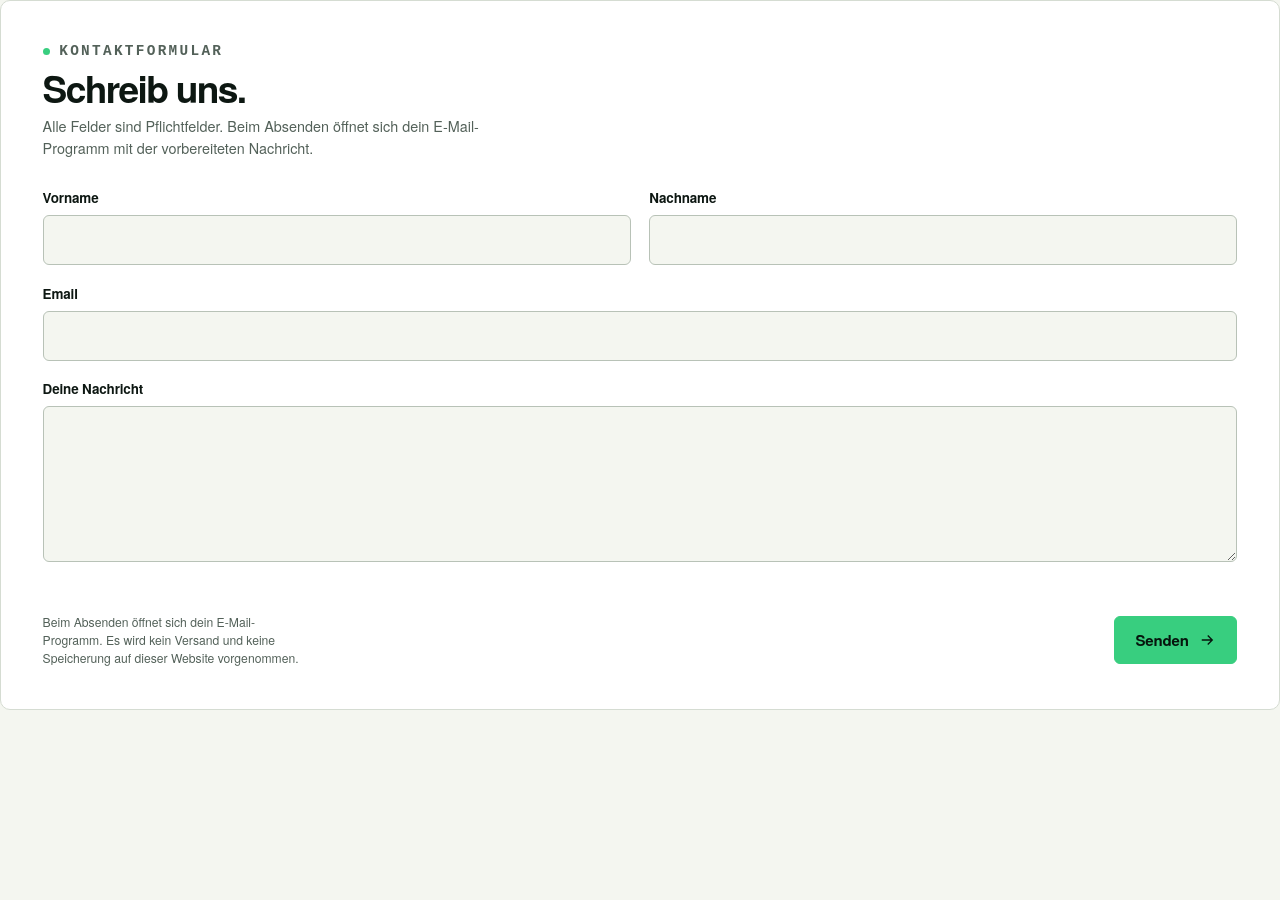
Test: ContactForm › shows errors only after the user has typed or tried to submit
Step 1. Type "Max" into the field labelled "Vorname" → x=337, y=240, box [43,215,631,265]
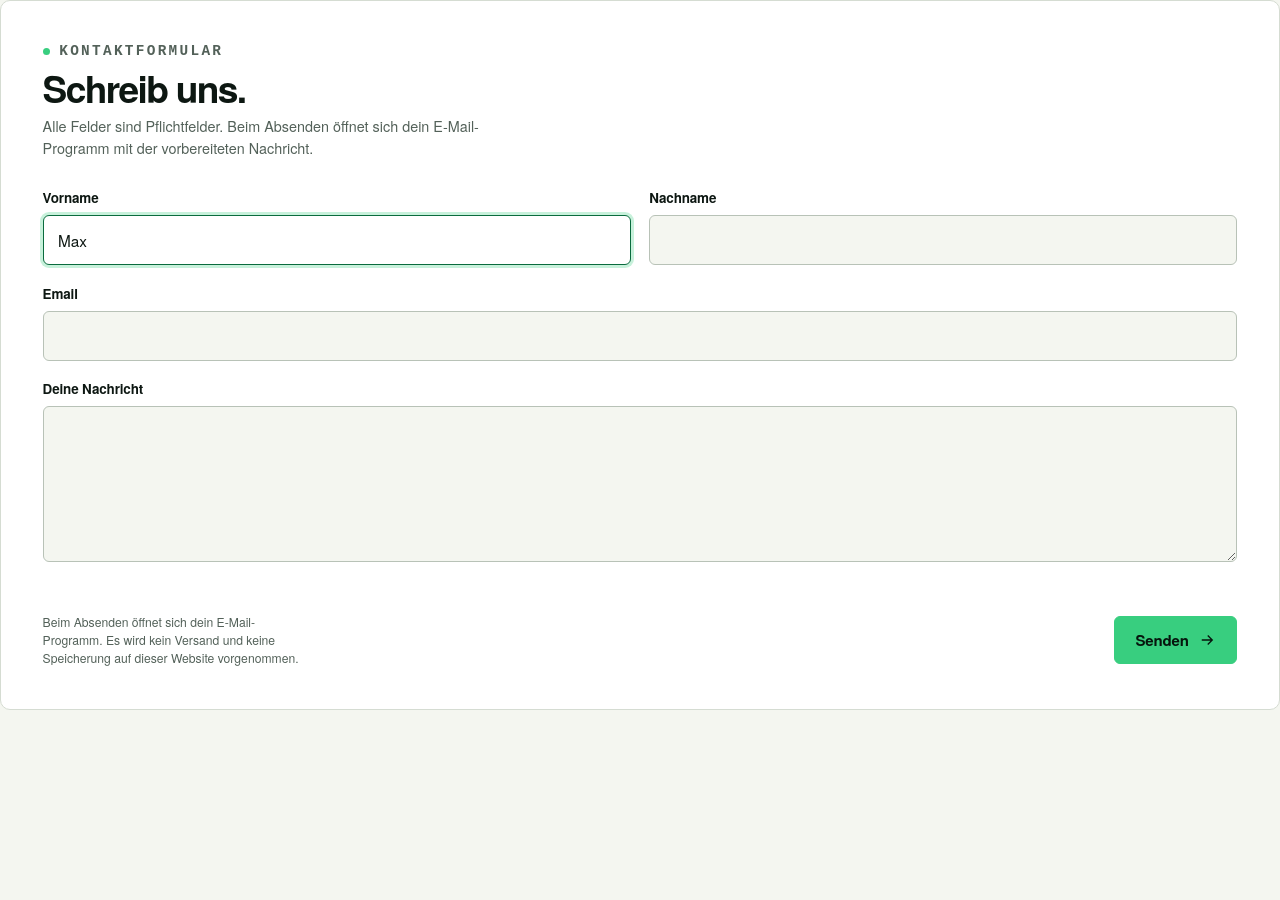
Expected: the text "Bitte gib deinen Vornamen ein." is not shown
Step 2. Clear the field labelled "Vorname" → x=337, y=240, box [43,215,631,265]
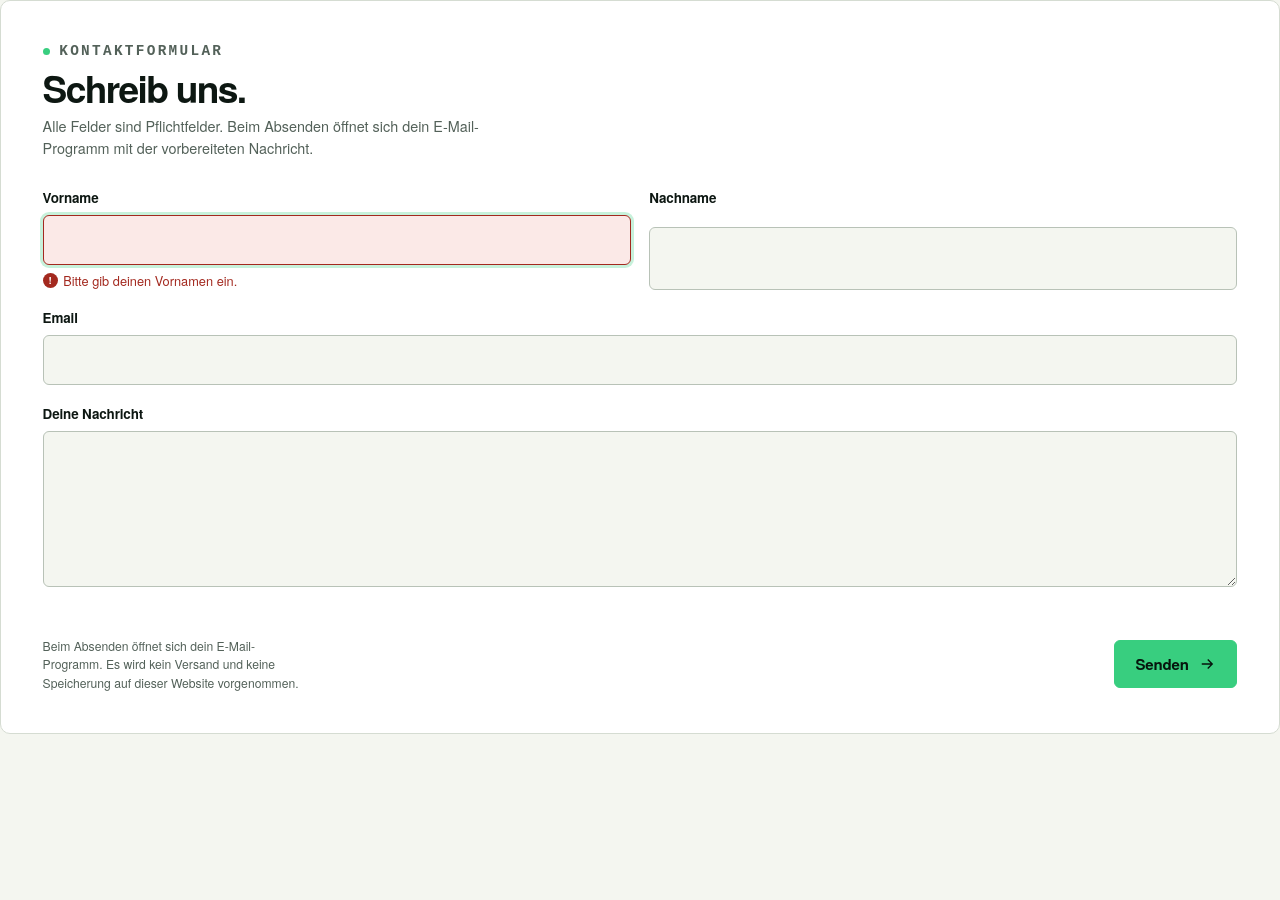
Result: the text "Bitte gib deinen Vornamen ein." is shown at [63,271,237,290]
Step 3. Click the button "Senden" → x=1176, y=664, box [1114,640,1237,688]
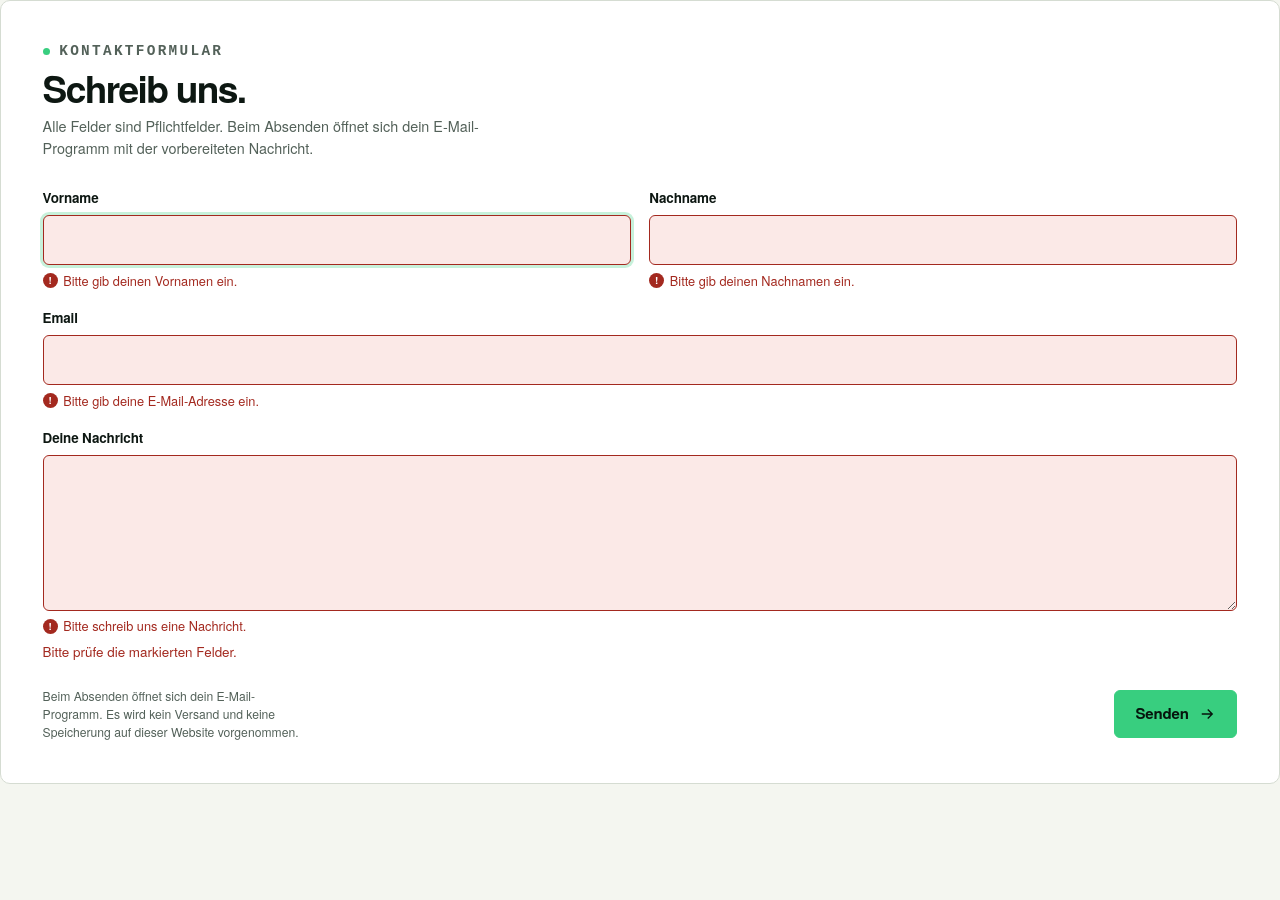
Result: the text "Bitte gib deinen Nachnamen ein." is shown at [670,271,854,290]
Result: the text "Bitte schreib uns eine Nachricht." is shown at [63,616,246,635]
Result: the text "Bitte prüfe die markierten Felder." is shown at [43,642,237,661]
